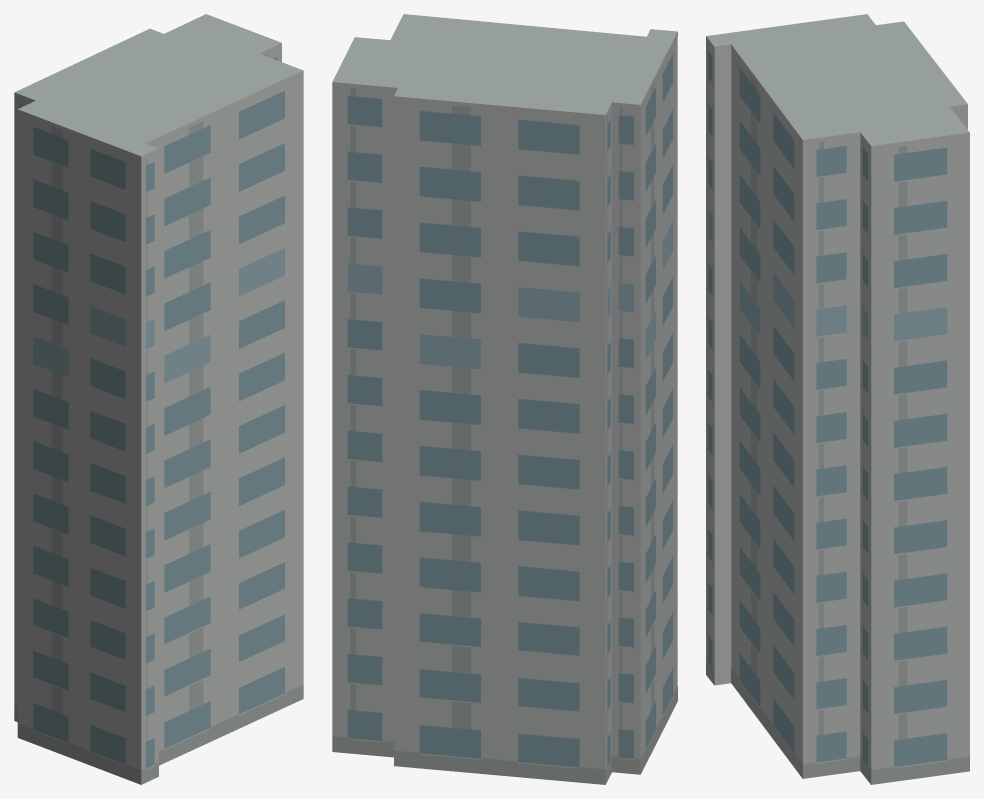
The model's file is residential-74dfd4ee-73ca-4cd9-9c7d-6486b72afd4a.glb.
The picture shows the model from 3 angles, left to right: view 1: azimuth 30°, elevation 25°; view 2: azimuth 150°, elevation 25°; view 3: azimuth 270°, elevation 25°; orthographic projection. The views are drawn at different scales.
Visible parts, largest first — view 1: residential-74dfd4ee-73ca-4cd9-9c7d-6486b72afd4a.tmp; view 2: residential-74dfd4ee-73ca-4cd9-9c7d-6486b72afd4a.tmp; view 3: residential-74dfd4ee-73ca-4cd9-9c7d-6486b72afd4a.tmp.
Part boxes in pixels (left/top/right/bottom): residential-74dfd4ee-73ca-4cd9-9c7d-6486b72afd4a.tmp: left=14, top=14, right=303, bottom=784; residential-74dfd4ee-73ca-4cd9-9c7d-6486b72afd4a.tmp: left=332, top=14, right=677, bottom=784; residential-74dfd4ee-73ca-4cd9-9c7d-6486b72afd4a.tmp: left=706, top=14, right=969, bottom=784.
Bounding box in the file's own units: 16.24 × 36.6 × 13.7.
